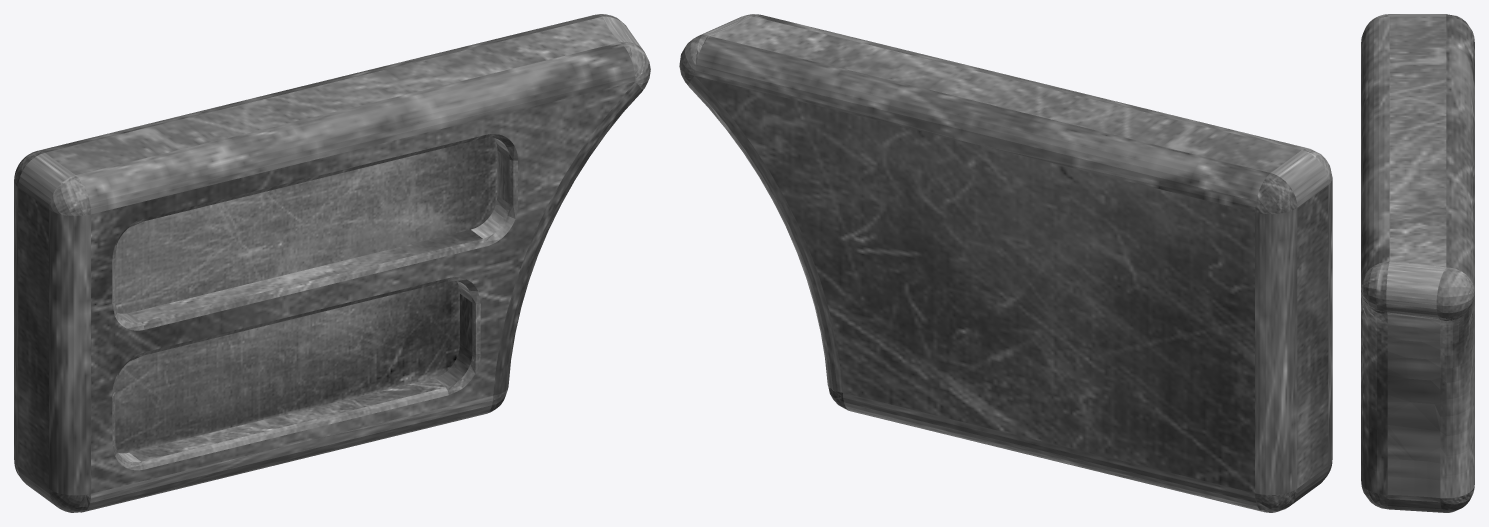
File: infoPanel_TL.obj
The picture shows the model from 3 angles, left to right: view 1: azimuth 30°, elevation 25°; view 2: azimuth 150°, elevation 25°; view 3: azimuth 270°, elevation 25°; orthographic projection. The views are drawn at different scales.
Parts seen in each view (by area): view 1: infoPanel_TL; view 2: infoPanel_TL; view 3: infoPanel_TL.
Boxes of the visible parts, x1,y1,x2,y2 form: infoPanel_TL: (14, 14, 650, 512); infoPanel_TL: (679, 14, 1332, 512); infoPanel_TL: (1361, 14, 1474, 512).
Bounding box in the file's own units: 1.14 × 0.6 × 0.2.
Materials: 1 (1 with a texture image).
